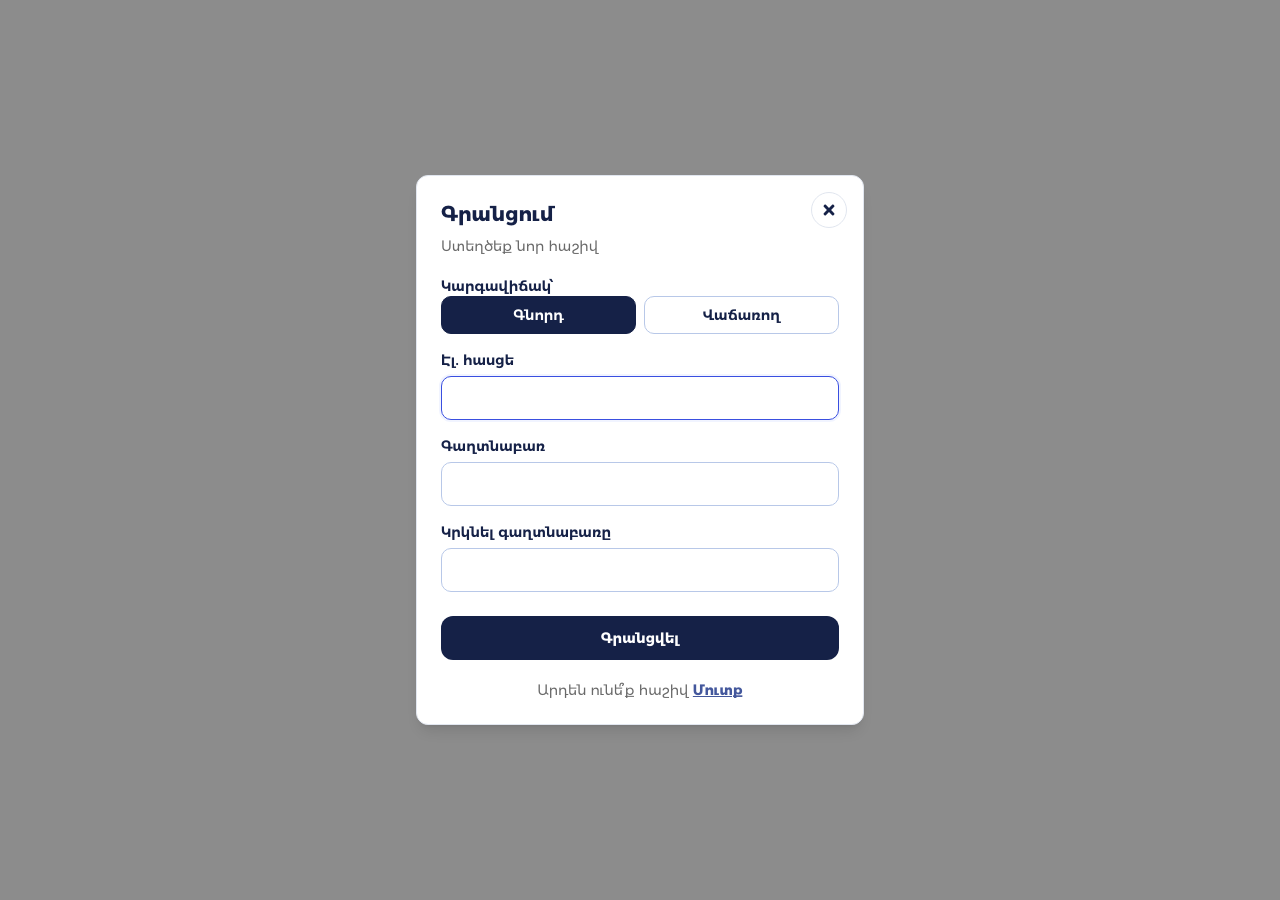
Test: signing in with wrong credentials › the error clears as soon as the visitor edits a field
Click the button "Մուտք" at point(718, 690), box top-left (693, 680), bottom-right (743, 700)
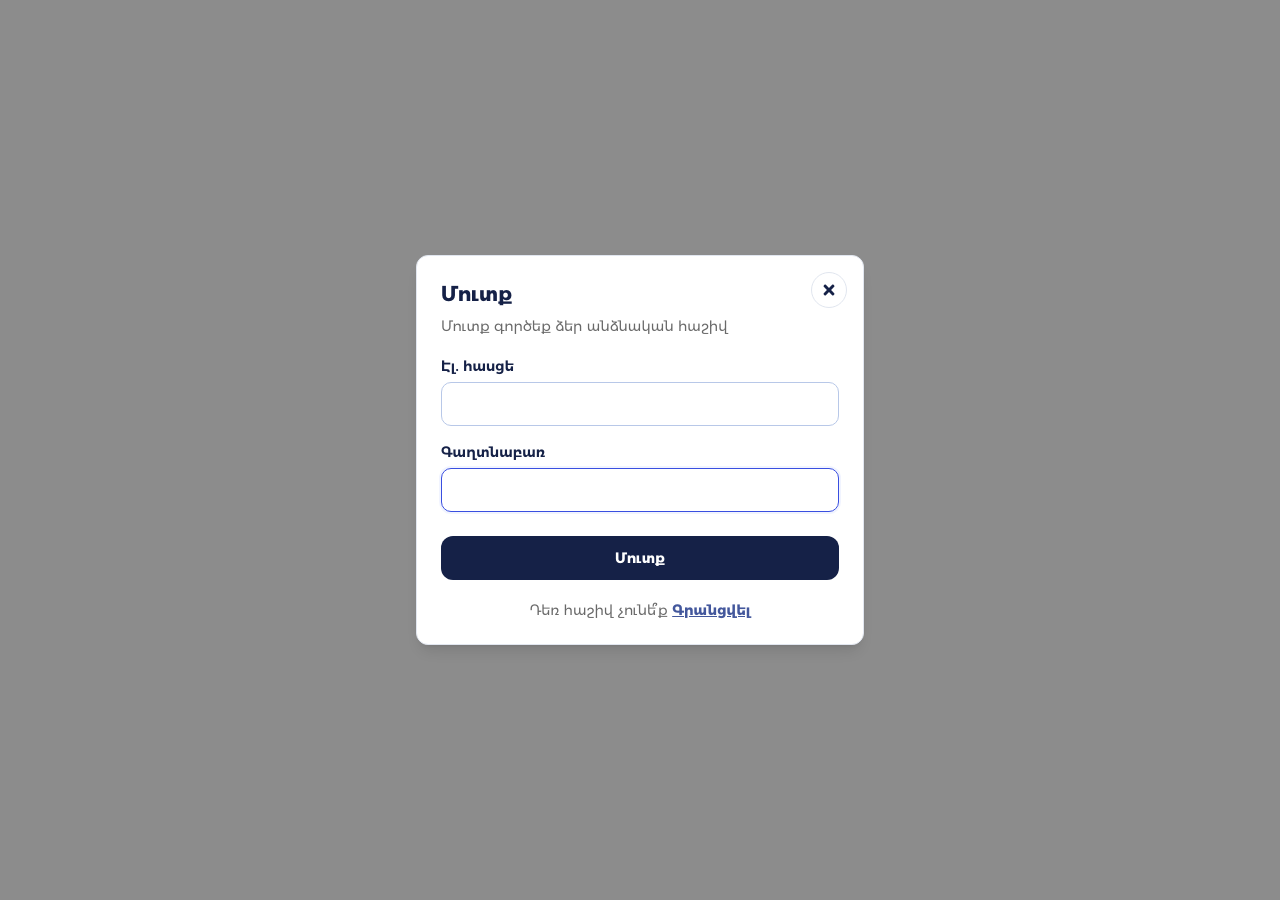
Type "nobody@test.com" into the field labelled "Էլ. հասցե" at point(640, 404), box top-left (441, 382), bottom-right (839, 426)
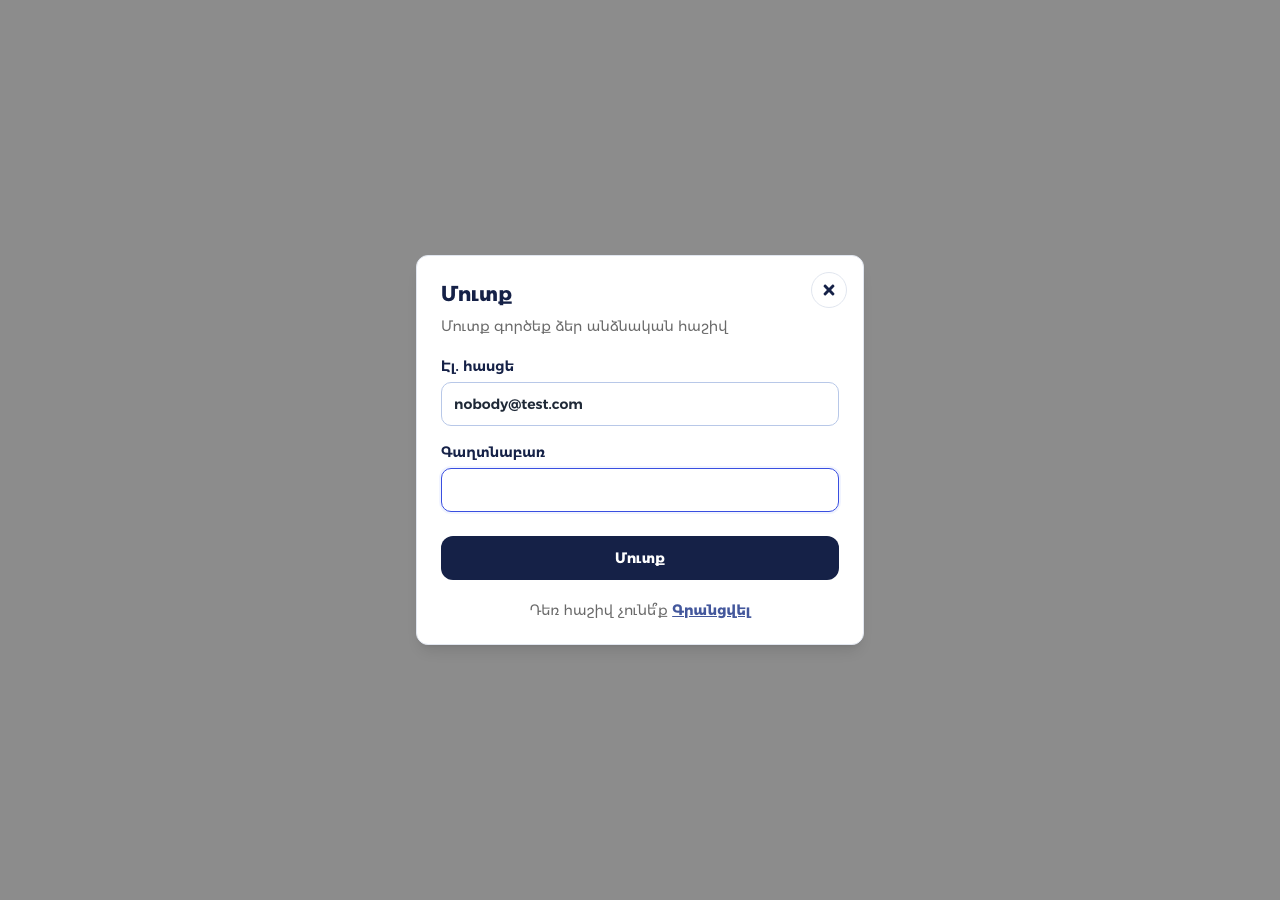
Type "whatever" into the password field labelled "Գաղտնաբառ" at point(640, 490), box top-left (441, 468), bottom-right (839, 512)
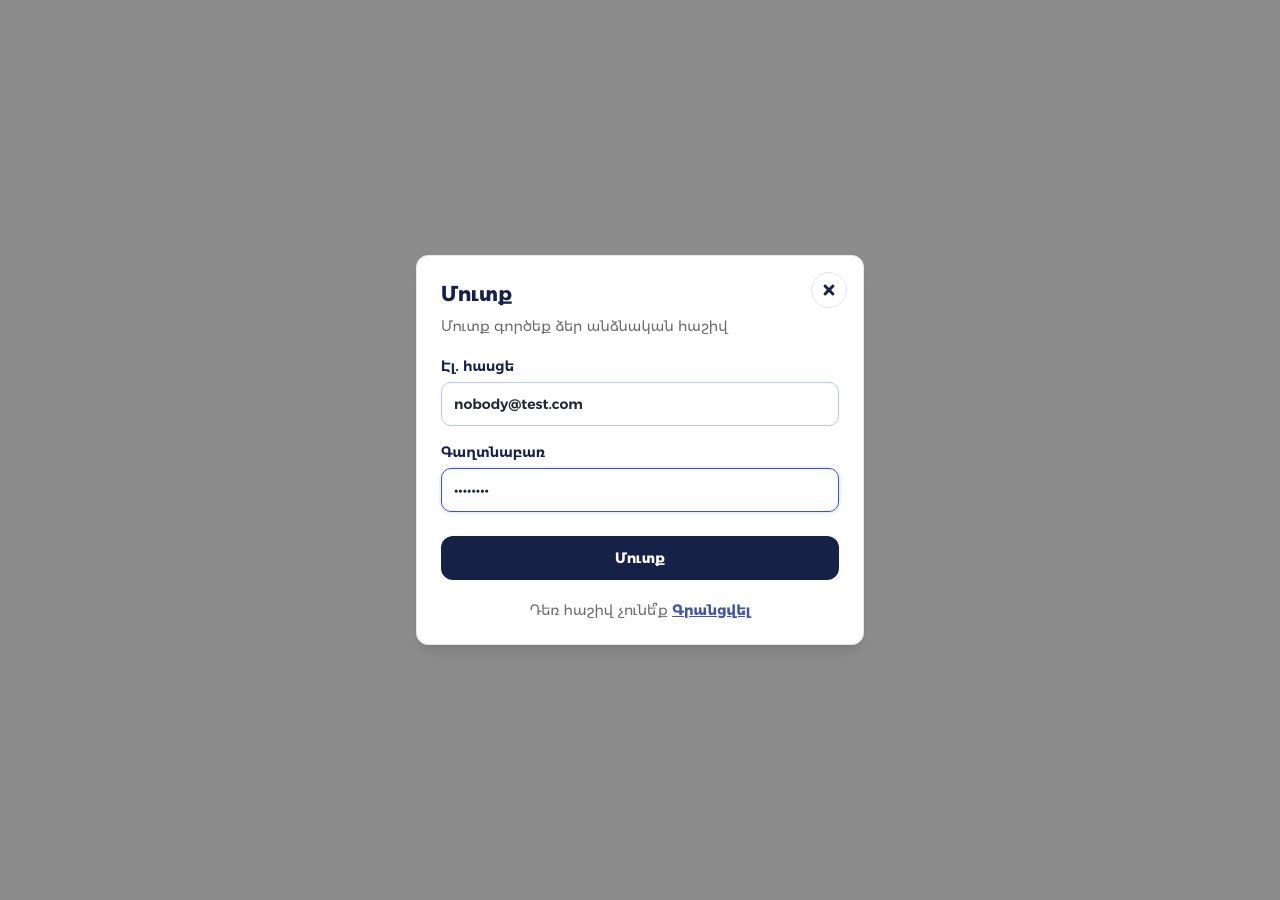
Click the button "Մուտք" at point(640, 558), box top-left (441, 536), bottom-right (839, 580)
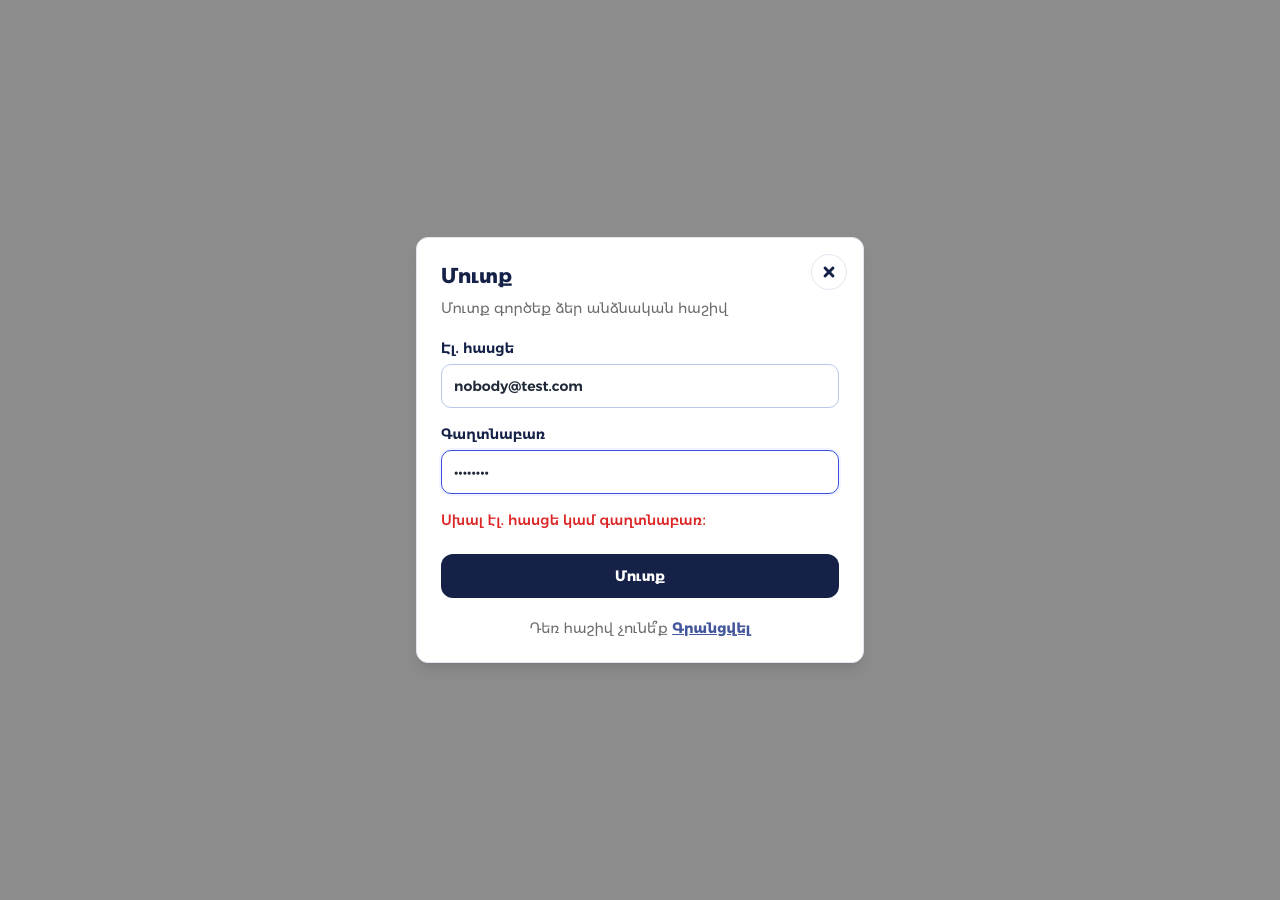
Check: the message "Սխալ էլ. հասցե կամ գաղտնաբառ։" is shown, box top-left (441, 511), bottom-right (706, 529)
Replace the text in the field labelled "Էլ. հասցե" with "nobody@test.co" at point(640, 386), box top-left (441, 364), bottom-right (839, 408)
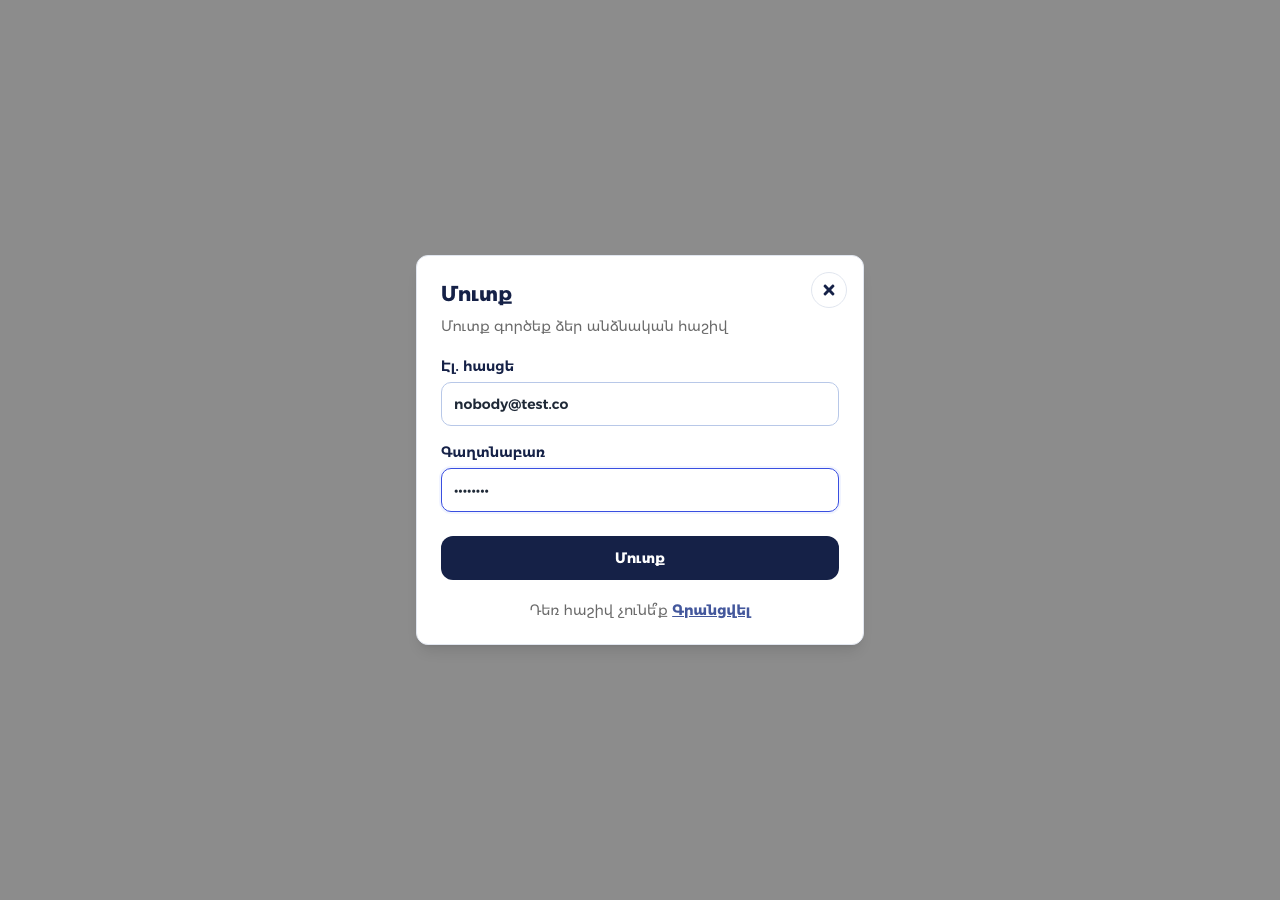
Check: the message "Սխալ էլ. հասցե կամ գաղտնաբառ։" is gone
